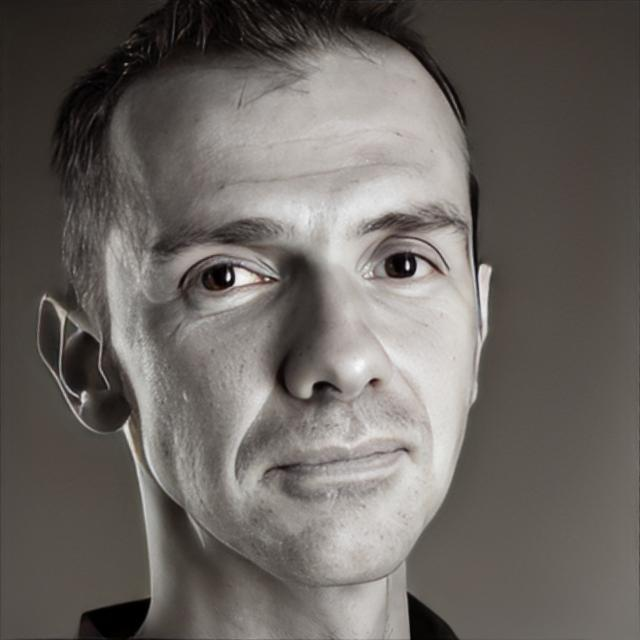neutral: (116, 46, 478, 588)
